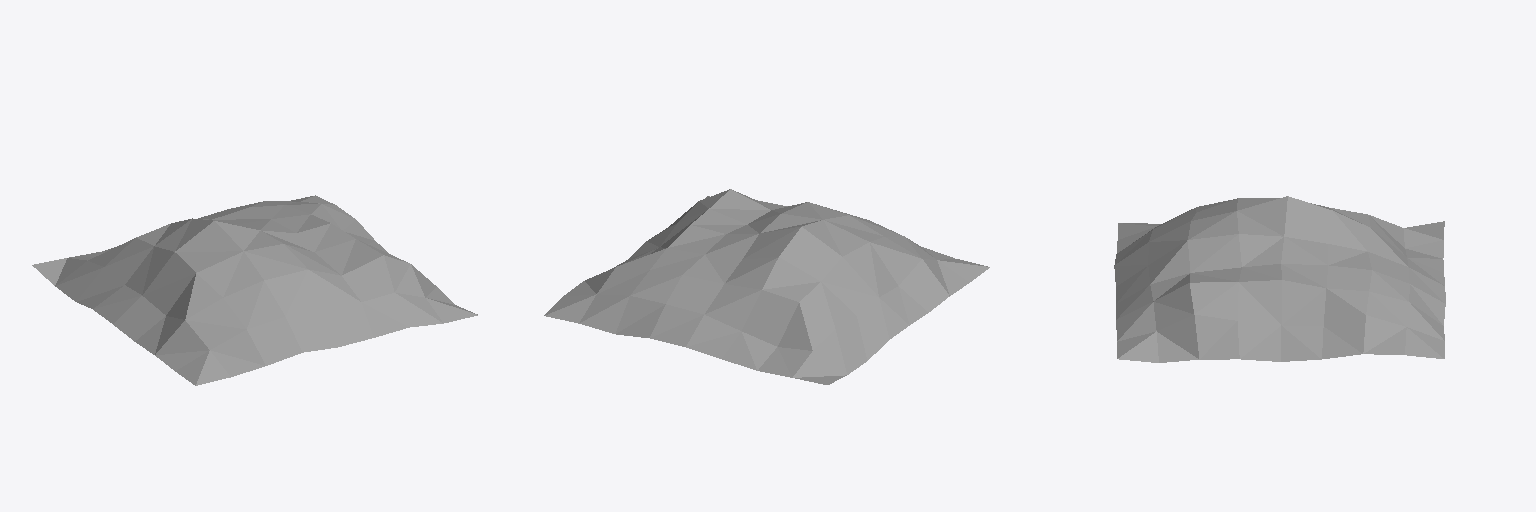
The model's file is S_DirtMound.obj.
The picture shows the model from 3 angles: view 1: azimuth 30°, elevation 25°; view 2: azimuth 150°, elevation 25°; view 3: azimuth 270°, elevation 25°; orthographic projection.
Visible parts, largest first — view 1: S_DirtMound_Plane.003; view 2: S_DirtMound_Plane.003; view 3: S_DirtMound_Plane.003.
Part boxes in pixels (x1,y1,x2,y2): S_DirtMound_Plane.003: (32, 195, 477, 385); S_DirtMound_Plane.003: (544, 189, 989, 384); S_DirtMound_Plane.003: (1114, 196, 1445, 362).
Bounding box in the file's own units: 3.99 × 1.11 × 4.01.